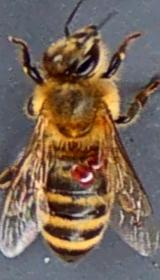varroa_mite: (64, 156, 98, 190), (84, 143, 108, 175)
